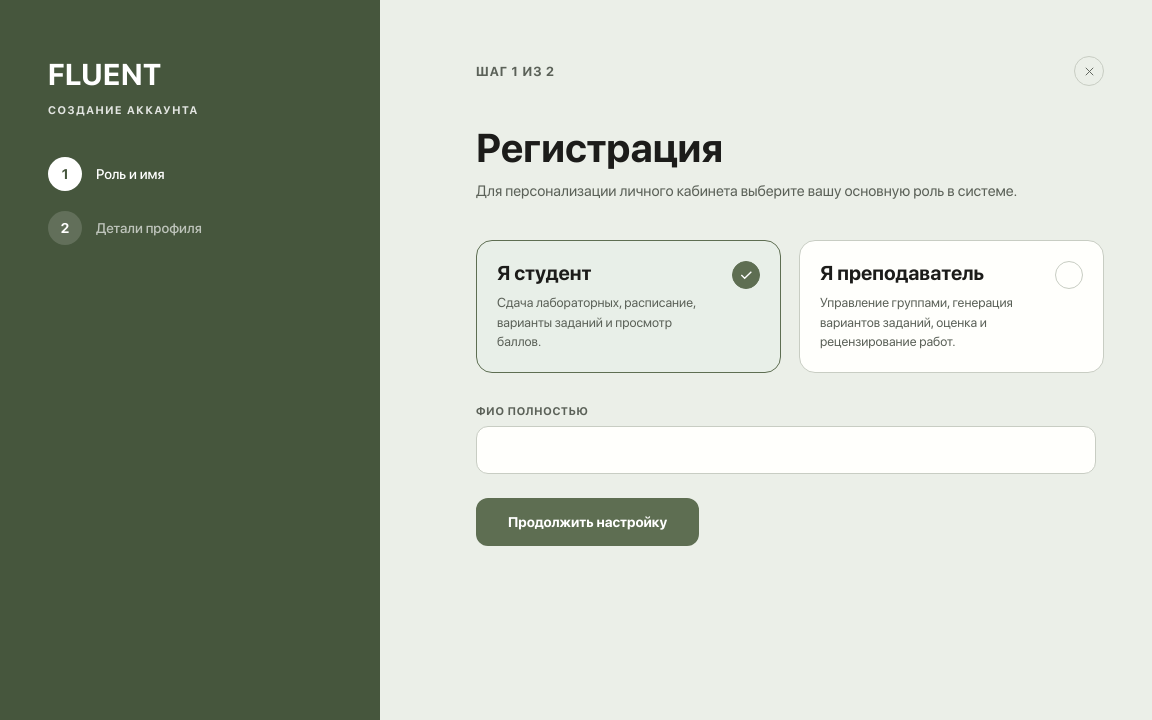
RegistrationRolePage.vue › показывает ошибку при пустом ФИО
The width and height of the screenshot is (1152, 720).
Click the button with class "submit-btn": click(588, 522) [476, 498, 699, 546]
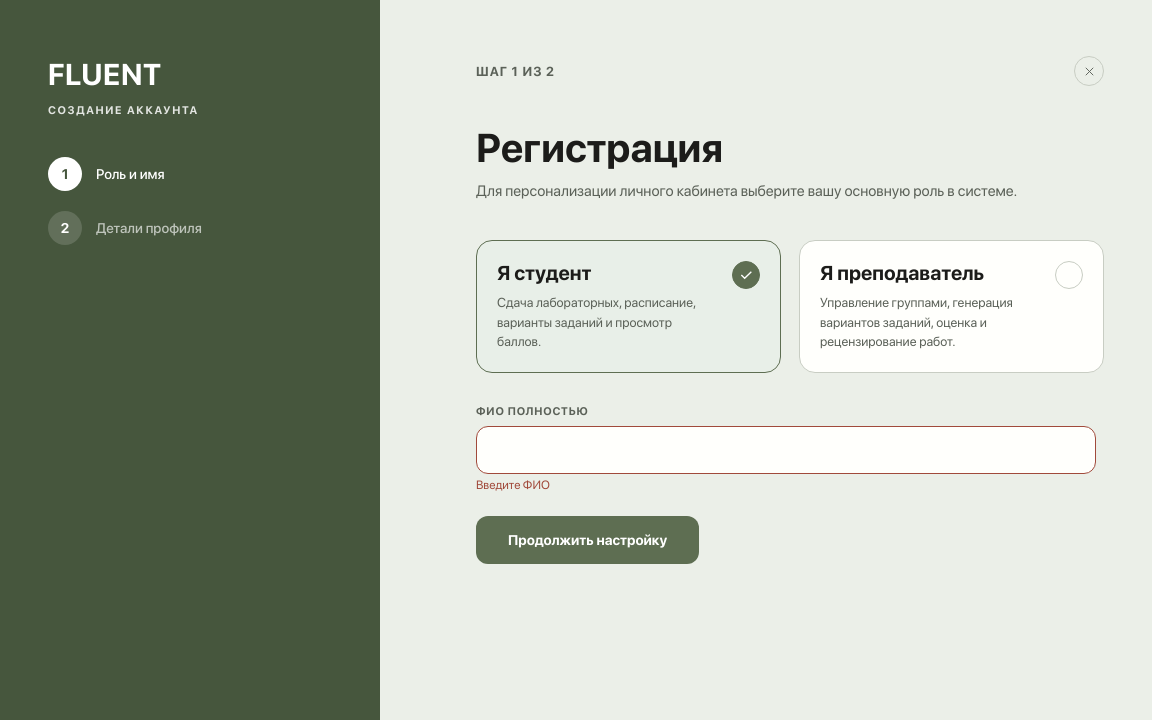
Result: the text with class "field-error" reads "Введите ФИО" at [476, 478, 550, 492]
